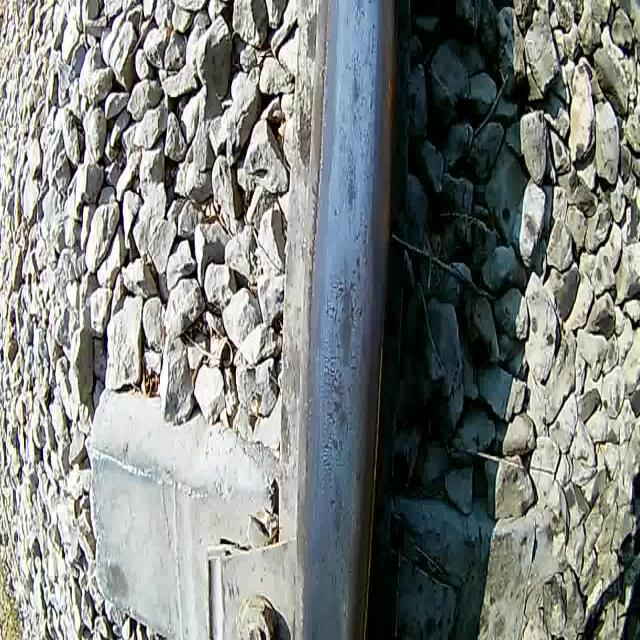Squats: (326, 371, 351, 459), (334, 274, 356, 372), (324, 470, 348, 547), (343, 142, 359, 216), (348, 61, 363, 111)
